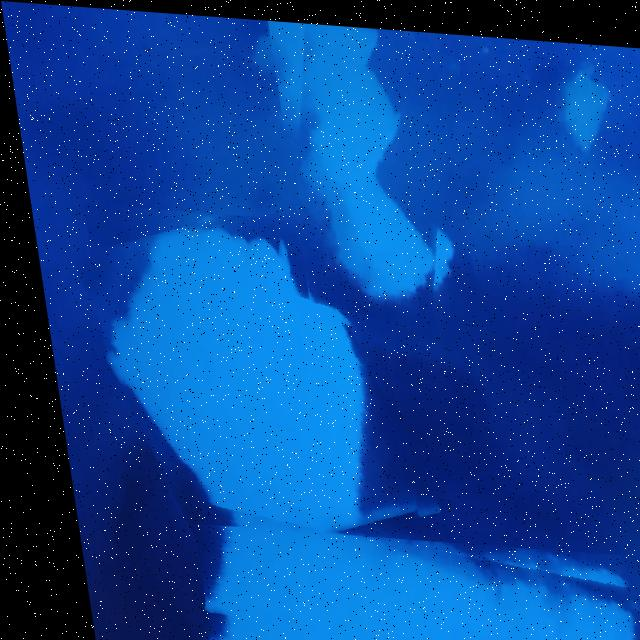litter: (76, 202, 411, 563), (267, 16, 476, 330), (177, 521, 631, 640)
